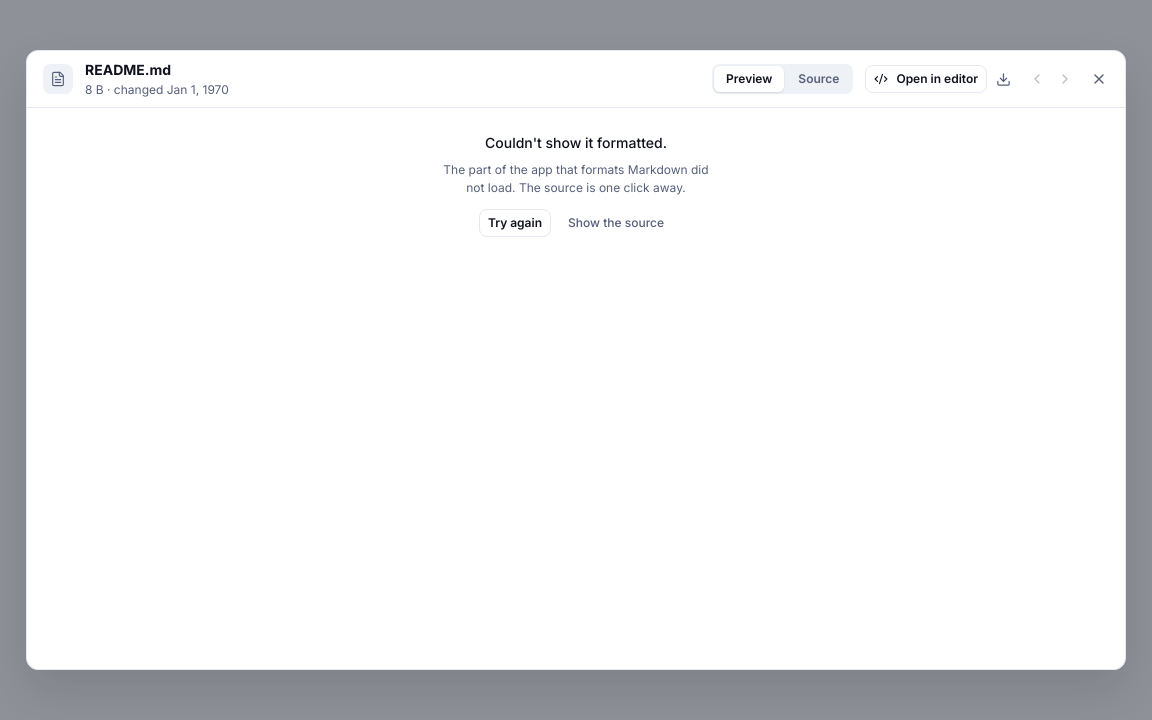
QuickLook, when the Markdown renderer cannot be fetched › says so, offers the source, and fetches it again on Try again
This screenshot has width=1152, height=720.
Expected: the text "Couldn't show it formatted." is shown, [485,132,667,153]
Expected: the button "Show the source" is shown, [559,209,673,237]
Click the button "Try again" at (515, 223), box [479,209,551,237]
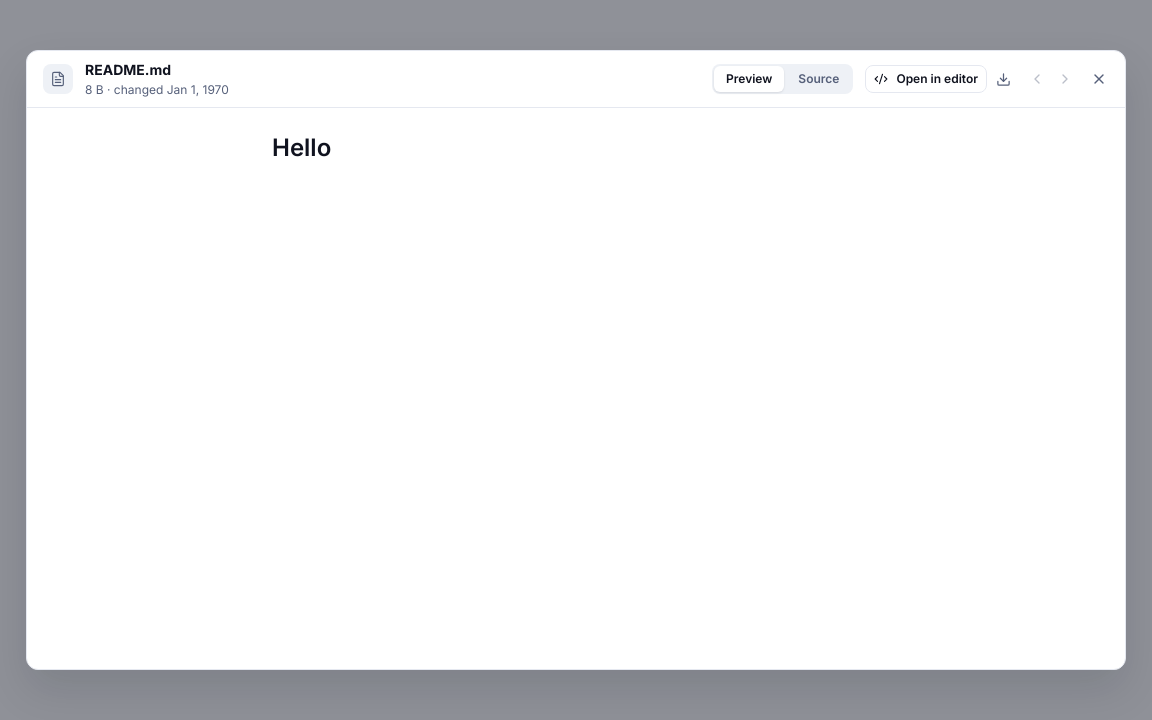
Expected: the heading "Hello" is shown, [272,133,332,162]
